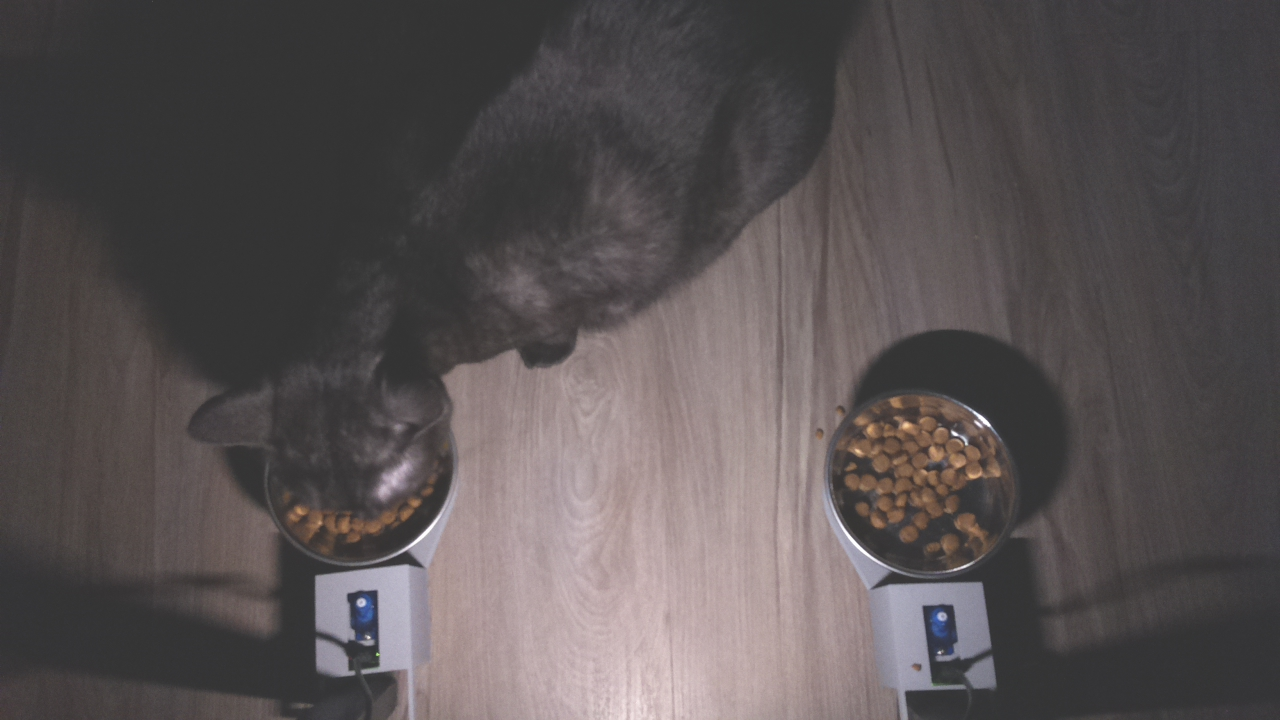open_bowl: (818, 385, 1034, 592)
saki_eating: (186, 282, 462, 578)
